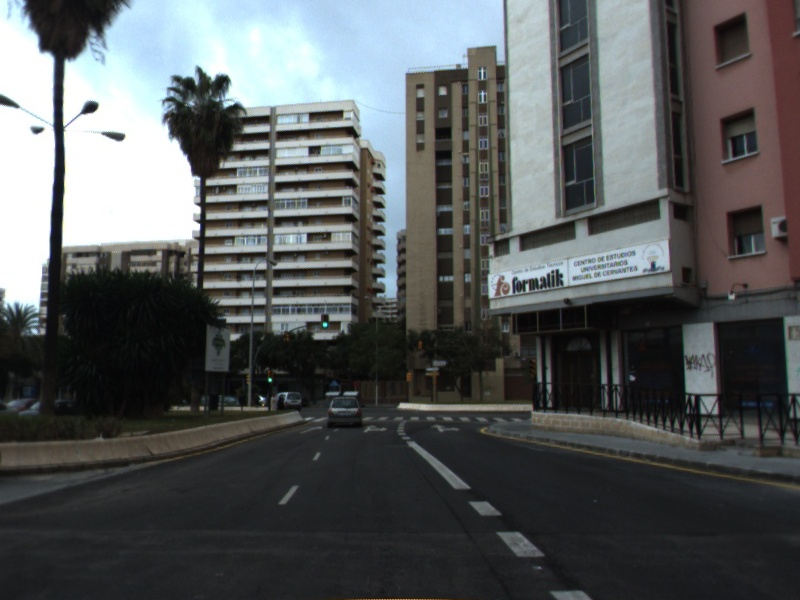STRAIGHT: (298, 424, 324, 435)
STRAIGHT_RIGHT: (429, 422, 462, 434), (360, 423, 390, 434)
